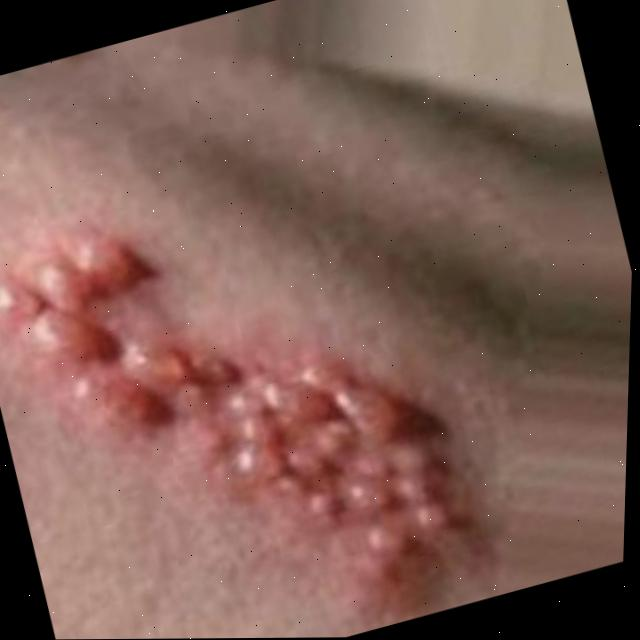Shingles: (0, 160, 490, 640)
